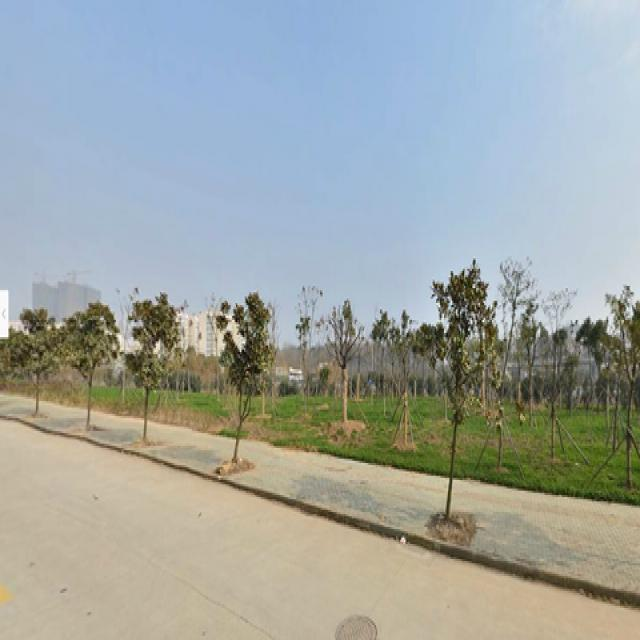magn: (432, 267, 472, 514), (213, 309, 266, 465), (124, 296, 176, 442), (72, 307, 105, 435), (11, 310, 49, 408)
